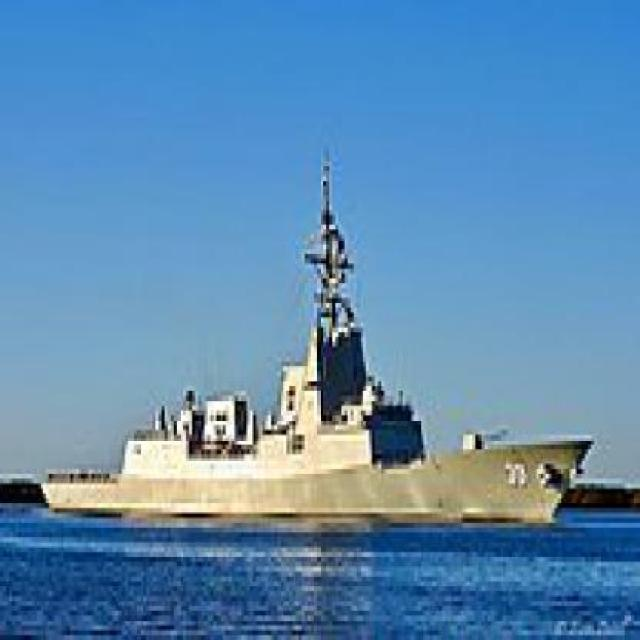warship2: (28, 113, 605, 549)
